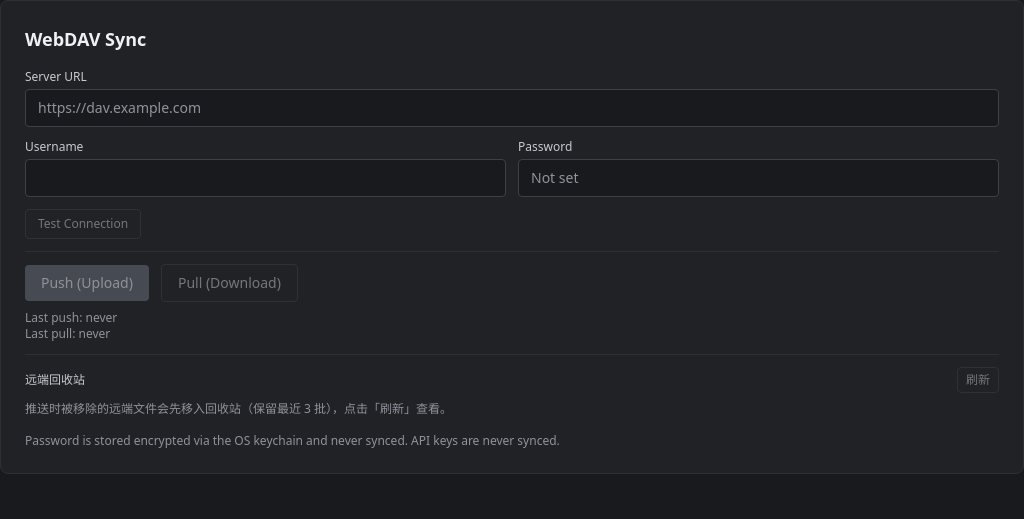
Test: WebDavSyncView — configuration › reports connection failures and thrown errors
This screenshot has width=1024, height=519.
Type "https://dav.example/dav" into the field with placeholder "https://dav.example.com" at coordinates (512, 108), box [25,89,999,127]
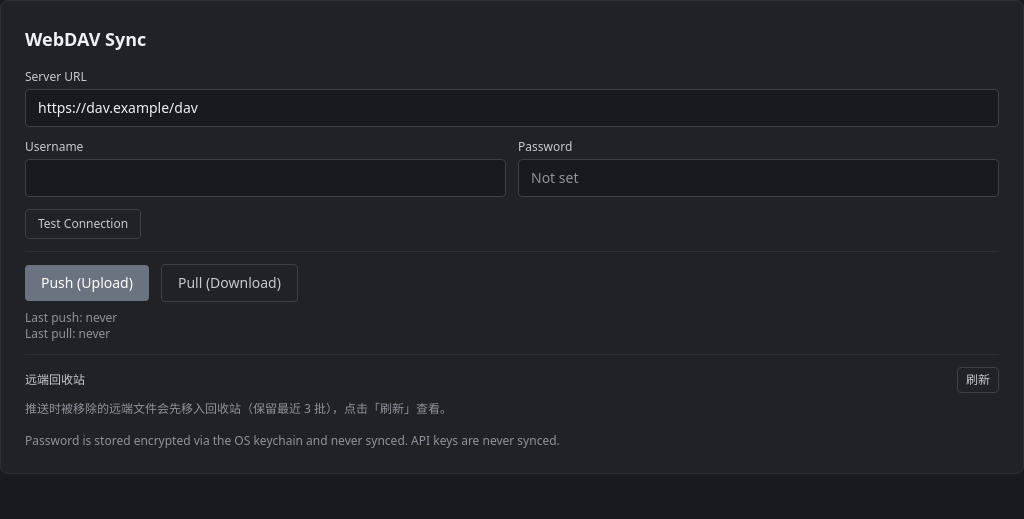
Click the button "Test Connection" at coordinates (83, 224), box [25,209,141,239]
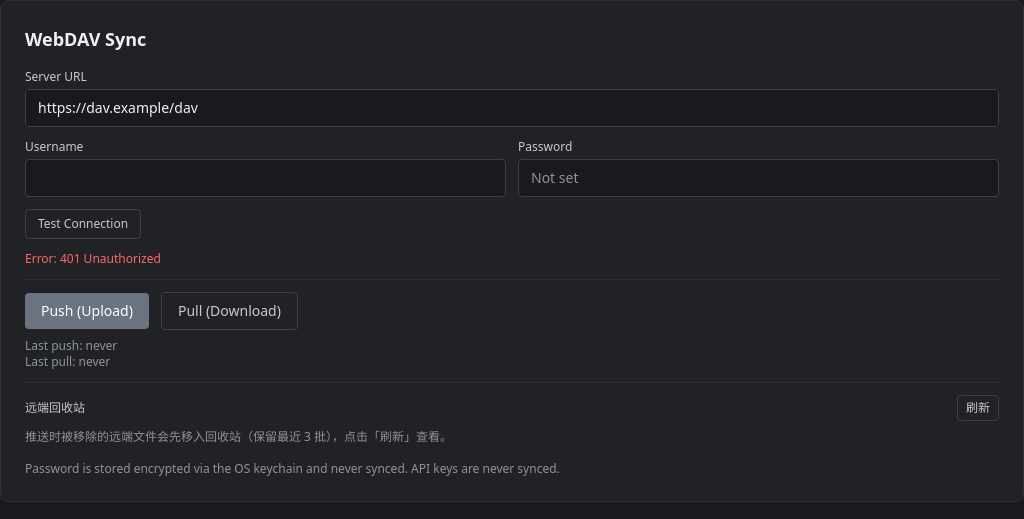
Result: the text "Error: 401 Unauthorized" is shown at [25,250,161,267]
Click the button "Test Connection" at coordinates (83, 224), box [25,209,141,239]
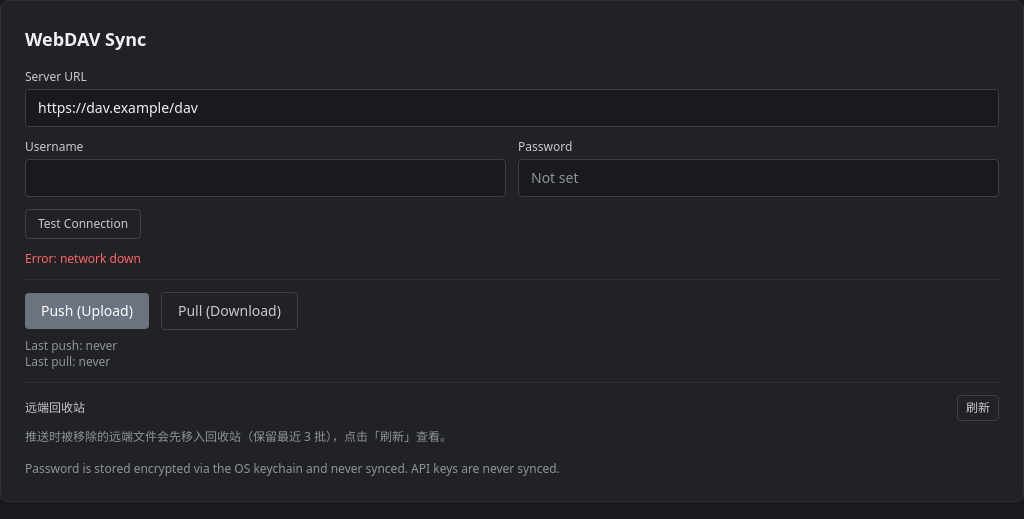
Result: the text "Error: network down" is shown at [25,250,141,267]
